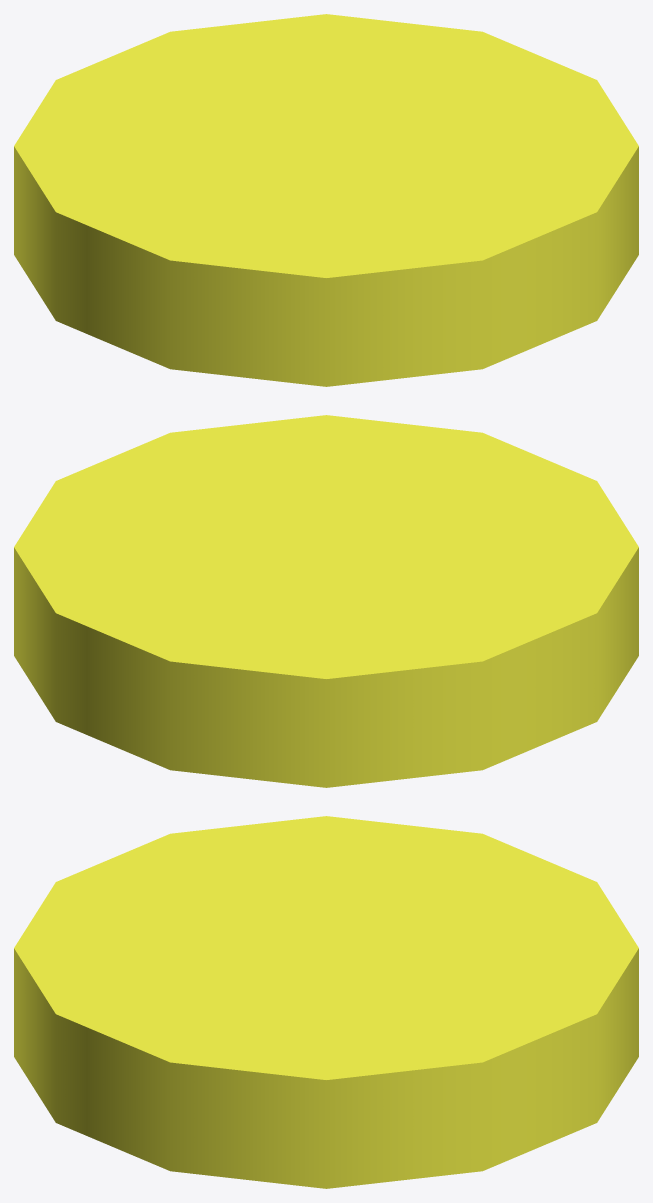
The model's file is Coin.glb.
3 renders of one model, top to bottom at view 1: azimuth 30°, elevation 25°; view 2: azimuth 150°, elevation 25°; view 3: azimuth 270°, elevation 25°, orthographic.
Visible parts, largest first — view 1: coin; view 2: coin; view 3: coin.
Part boxes in pixels (left/top/right/bottom): coin: left=14, top=14, right=638, bottom=386; coin: left=14, top=415, right=638, bottom=787; coin: left=14, top=816, right=638, bottom=1188.
Bounding box in the file's own units: 0.2 × 0.0384 × 0.2.
